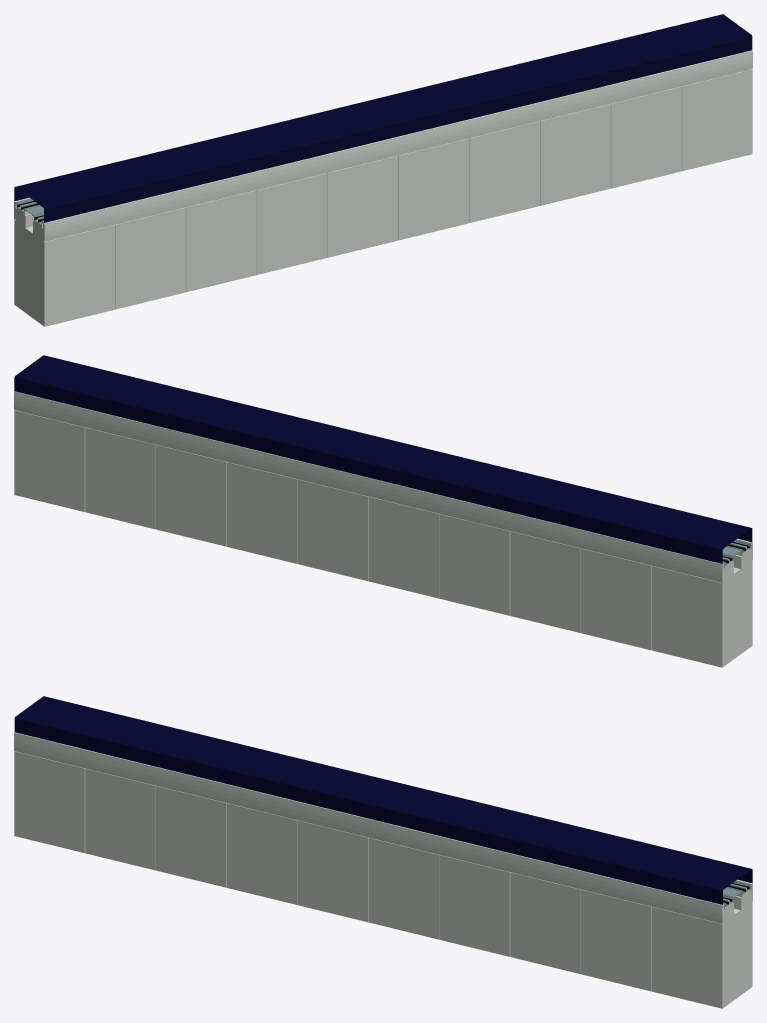
File: Automation Track x5.obj
3 renders of one model, top to bottom at view 1: azimuth 30°, elevation 25°; view 2: azimuth 150°, elevation 25°; view 3: azimuth 330°, elevation 25°, orthographic.
Visible parts, largest first — view 1: object1, object4; view 2: object1, object4; view 3: object1, object4.
Boxes of the visible parts, x1,y1,x2,y2 form: object1: [14, 50, 752, 326]; object4: [14, 14, 752, 222]; object1: [14, 391, 752, 667]; object4: [14, 355, 752, 563]; object1: [14, 732, 752, 1008]; object4: [14, 696, 752, 904].
Size of the model in its own units: 265 by 42.31 by 19.83.
